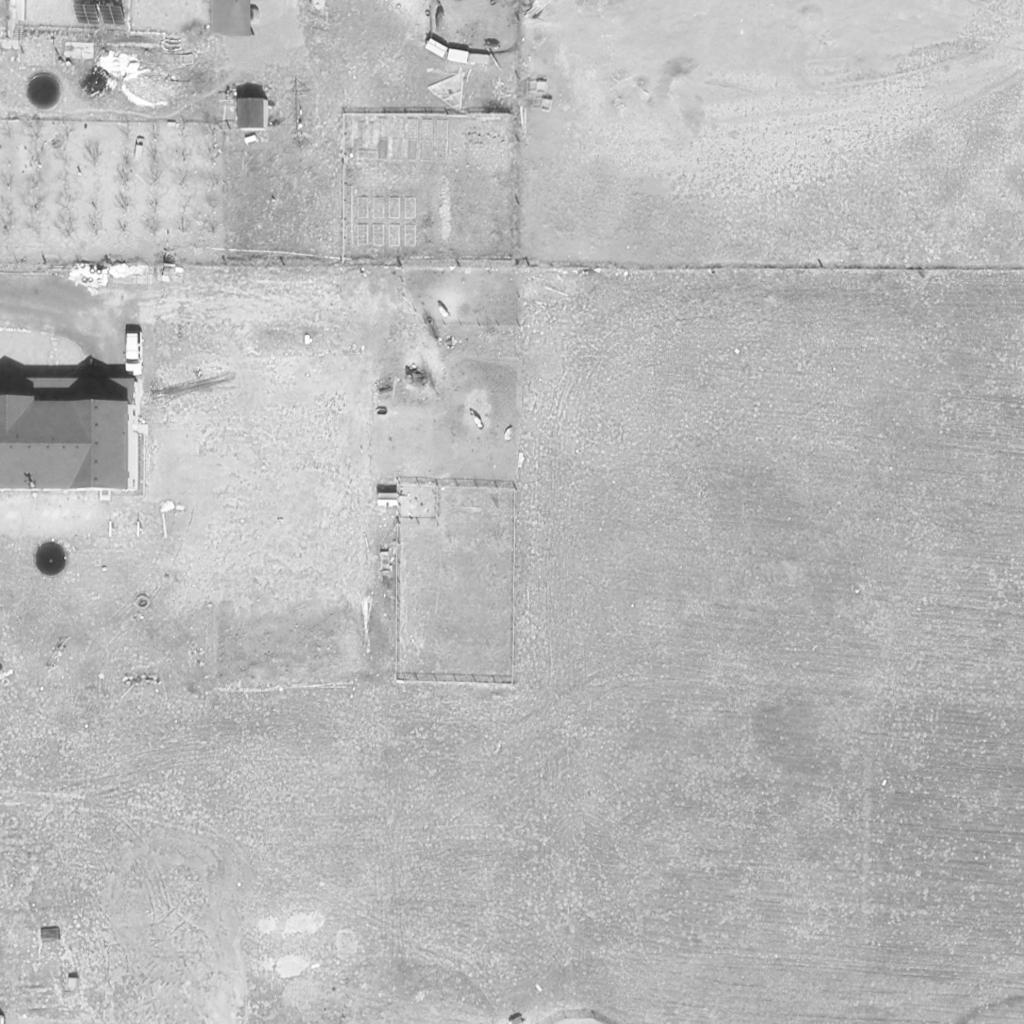vehicle: (122, 329, 144, 377), (216, 5, 260, 21)
